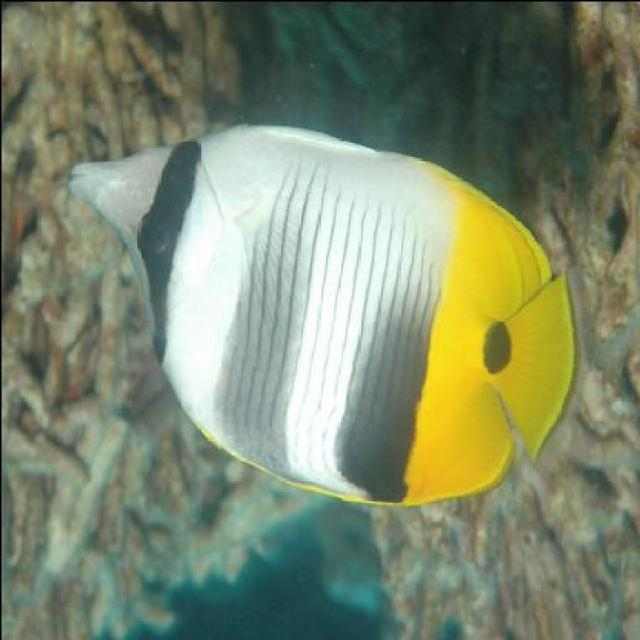ButterflyFish: (70, 119, 586, 507)
